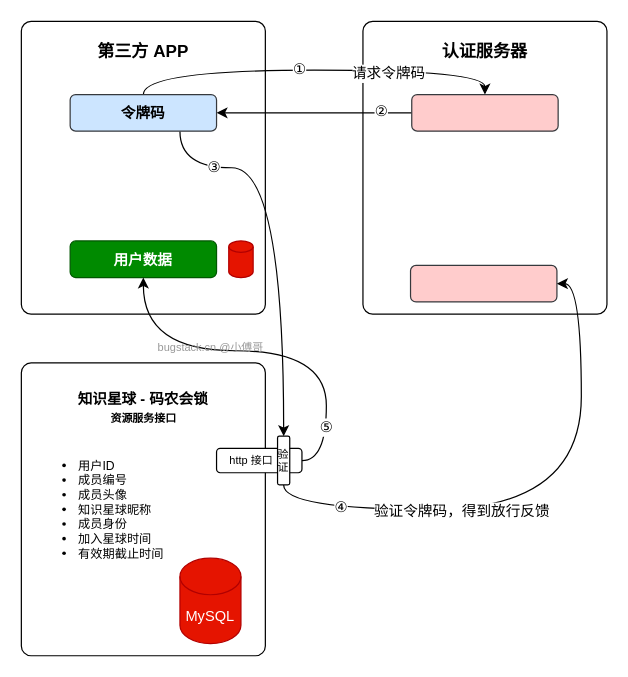
The diagram is 628 pixels wide and 677 high, and some of its shapes have lost their labels. Each missing label, with the centre of its shape:
"授权终点" goes at point (484, 112).
"自省终点" goes at point (483, 283).
